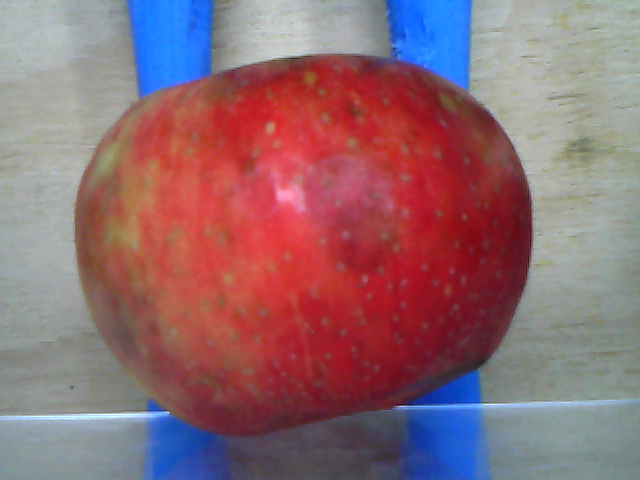bruise: (306, 157, 402, 274)
